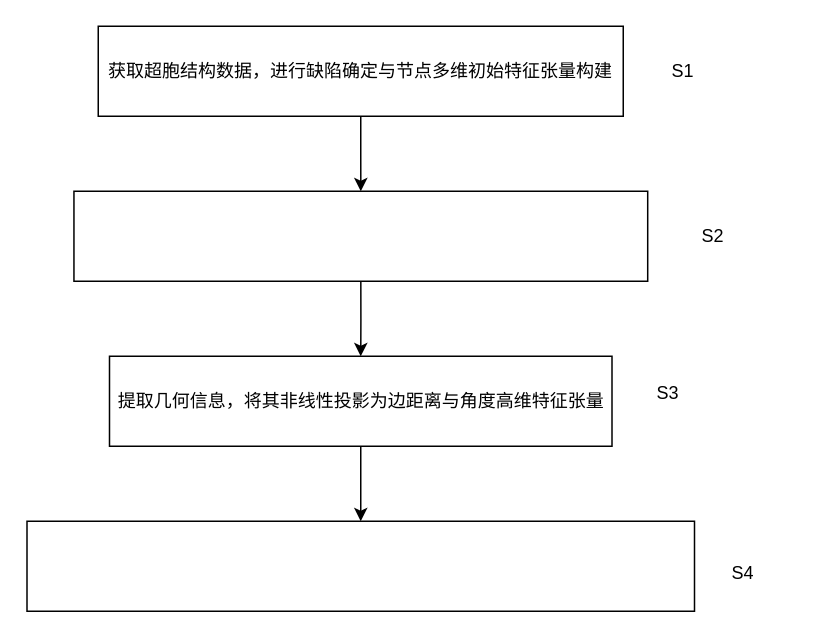
The diagram is 813 pixels wide and 638 high, and some of its shapes have lost their labels. Each missing label, with the centre of its shape:
基于周期性边界条件与截断半径，构建包含周期边界信息的拓扑图结构: point 360,235
将初始特征与高阶几何特征输入深度网络，通过非线性演化生成全图综合表征向量: point 360,565
